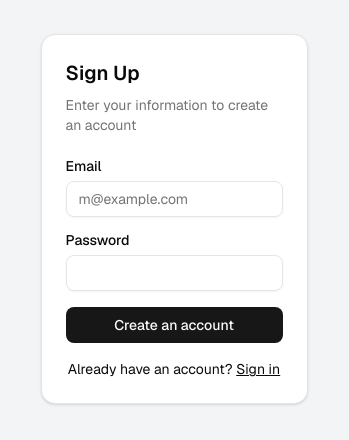
Register Page (Use Case 1) › should show specific error for weak password (TS-1.3)
Note: Test Steps
Type "newuser@test.com" into the field labelled "Email" at (174,199), box [66,181,282,217]
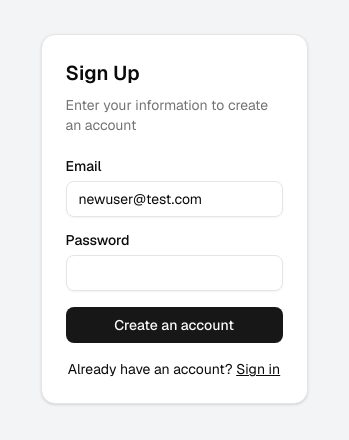
Type "123" into the password field labelled "Password" at (174,273), box [66,255,282,291]
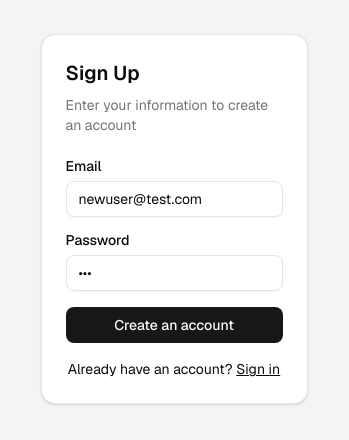
Note: Test Step: Submit
Submit the form "Email Password Create an account", box [66,159,282,343]
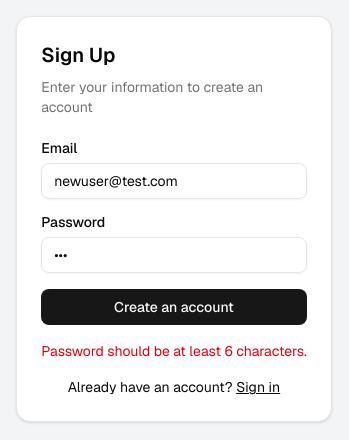
Expected: the text "Password should be at least 6 characters." is shown, [41,341,307,361]
